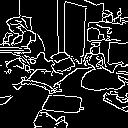cube: (37, 92, 86, 114)
